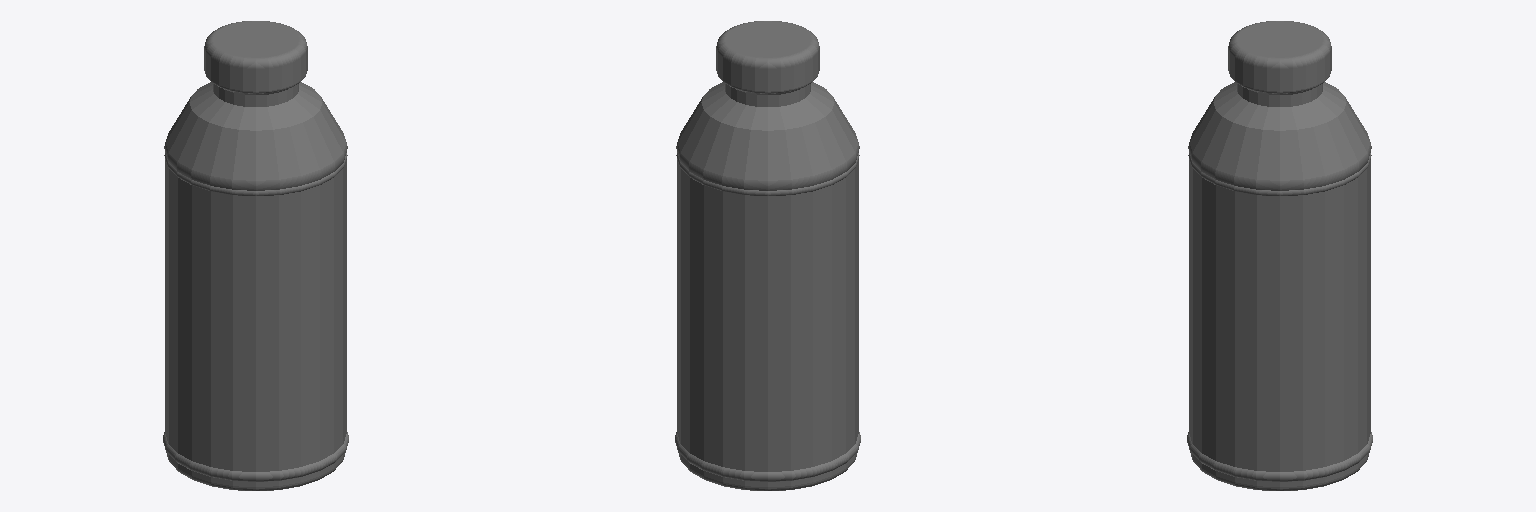
URDF robot description (object):
<?xml version="1.0"?>
<robot name="object">
  <link name="object">
    <visual>
      <origin xyz="0 0 0"/>
      <geometry>
        <mesh
          filename="../../mesh/oakink_virtual/cylinder_bottle_s317.stl" />
      </geometry>
      <material name="mat">
        <color rgba="0.5 0.5 0.5 1"/>
      </material>
    </visual>

    <collision>
      <origin xyz="0 0 0"/>
      <geometry>
        <mesh
          filename="../../mesh/oakink_virtual/cylinder_bottle_s317.stl" />
      </geometry>
    </collision>
  </link>
</robot>

--- What the picture shows (computed from the rendered views, not written in the file) ---
The picture shows the robot from 3 angles, left to right: view 1: azimuth 30°, elevation 25°; view 2: azimuth 150°, elevation 25°; view 3: azimuth 270°, elevation 25°; orthographic projection.
Robot: object — 1 links, 0 joints (none); root link object; default pose: every joint at zero.
Visible links, largest first — view 1: object; view 2: object; view 3: object.
Boxes of the visible links, bbox=[...] form: object: bbox=[163, 21, 348, 490]; object: bbox=[675, 21, 860, 490]; object: bbox=[1187, 21, 1372, 490].
Bounding box of the posed robot: 0.0752 × 0.0752 × 0.1847 m (x, y, z).
1 mesh visuals loaded from 1 distinct referenced files (1 binary STL).